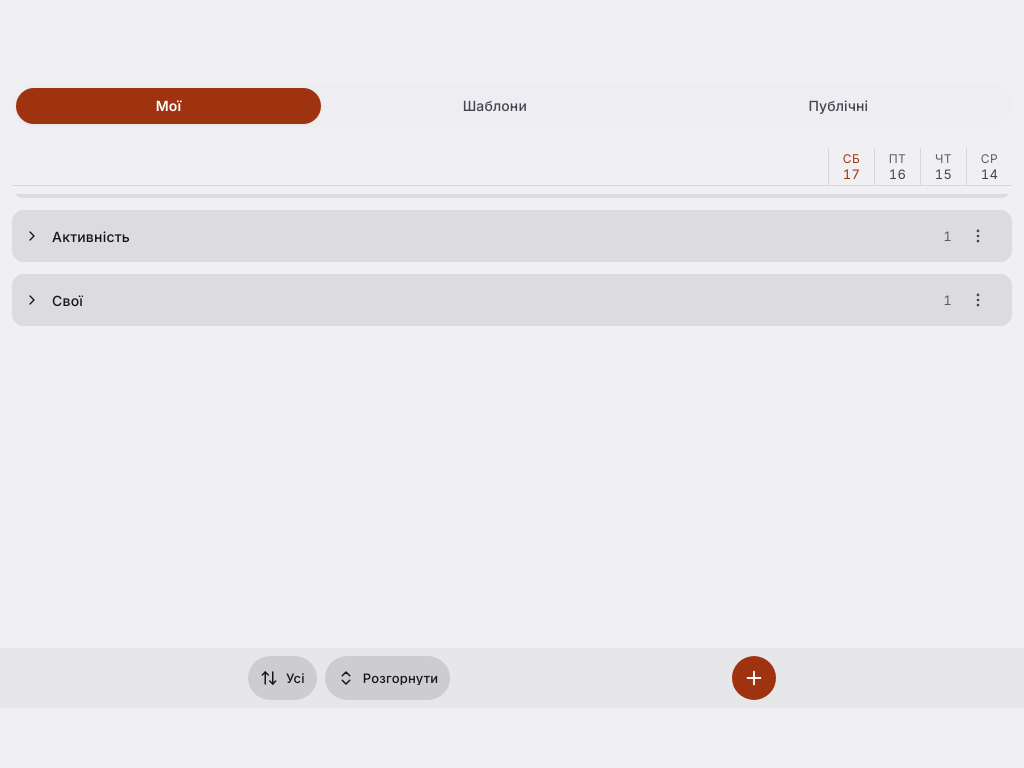
Test case: переміщення › гілка, яку переміщують, у дереві не показується — цикл неможливий
Click the button named "Дії групи Активність".
click(978, 236)  # box x1=956 y1=214 x2=1000 y2=258
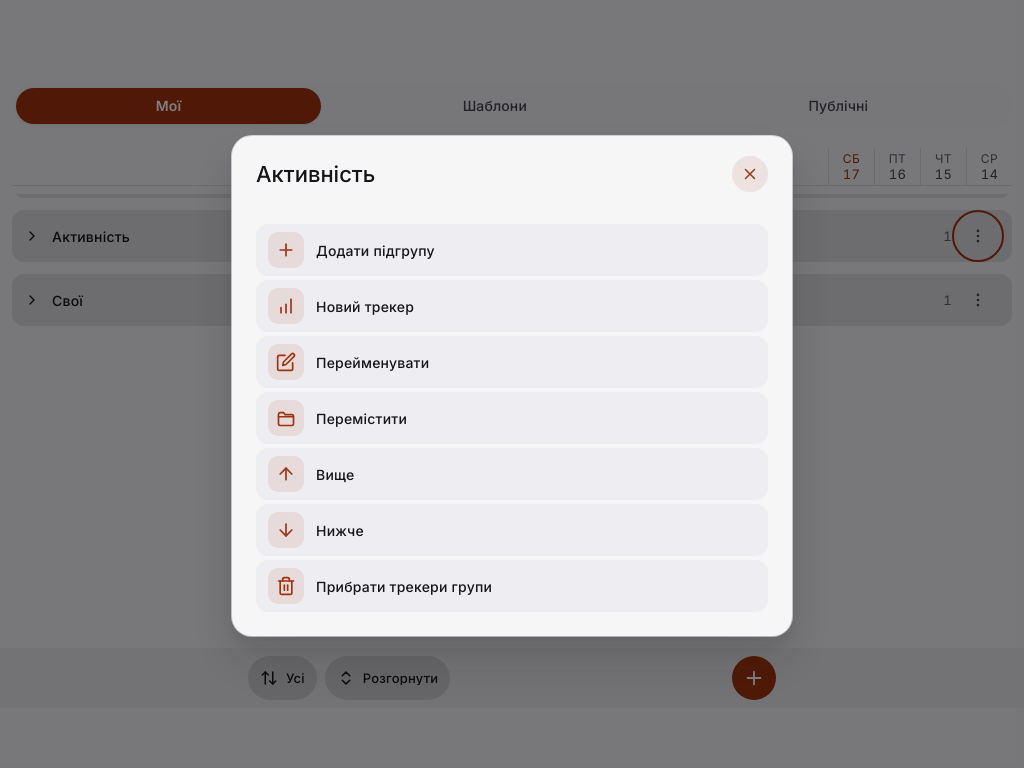
Click the button "Перемістити".
click(286, 418)  # box x1=256 y1=392 x2=768 y2=444
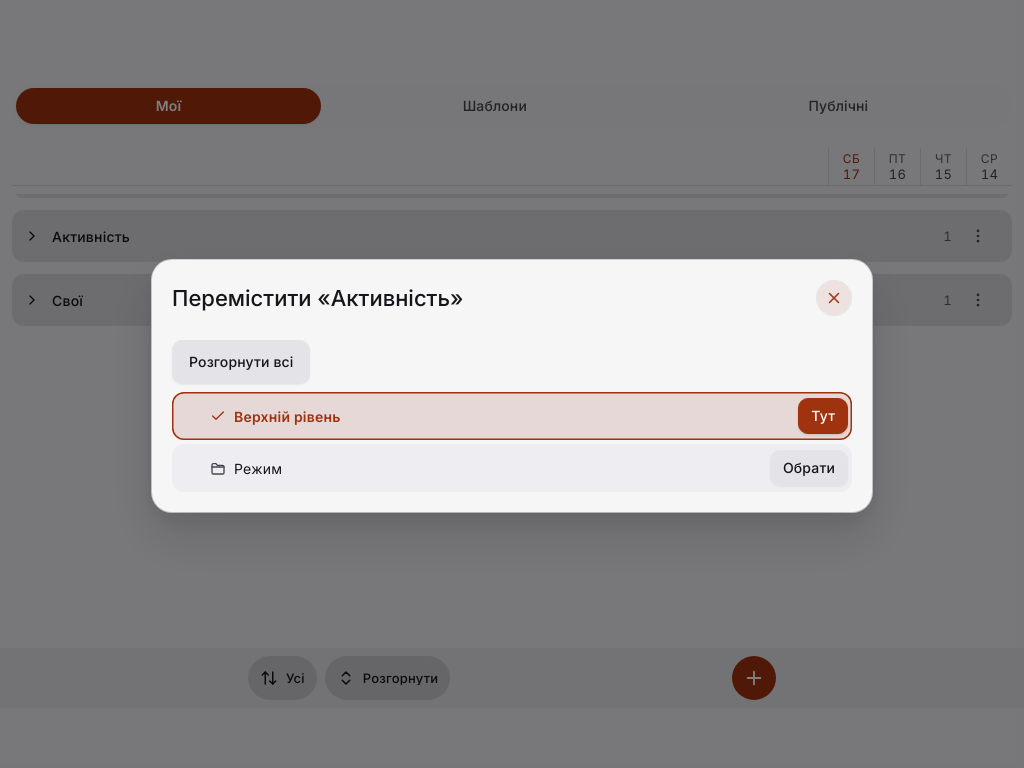
Now the dialog "Обрати: Активність" is gone
Now the button with aria-label "Обрати: Режим" is shown, box x1=770 y1=450 x2=848 y2=486
